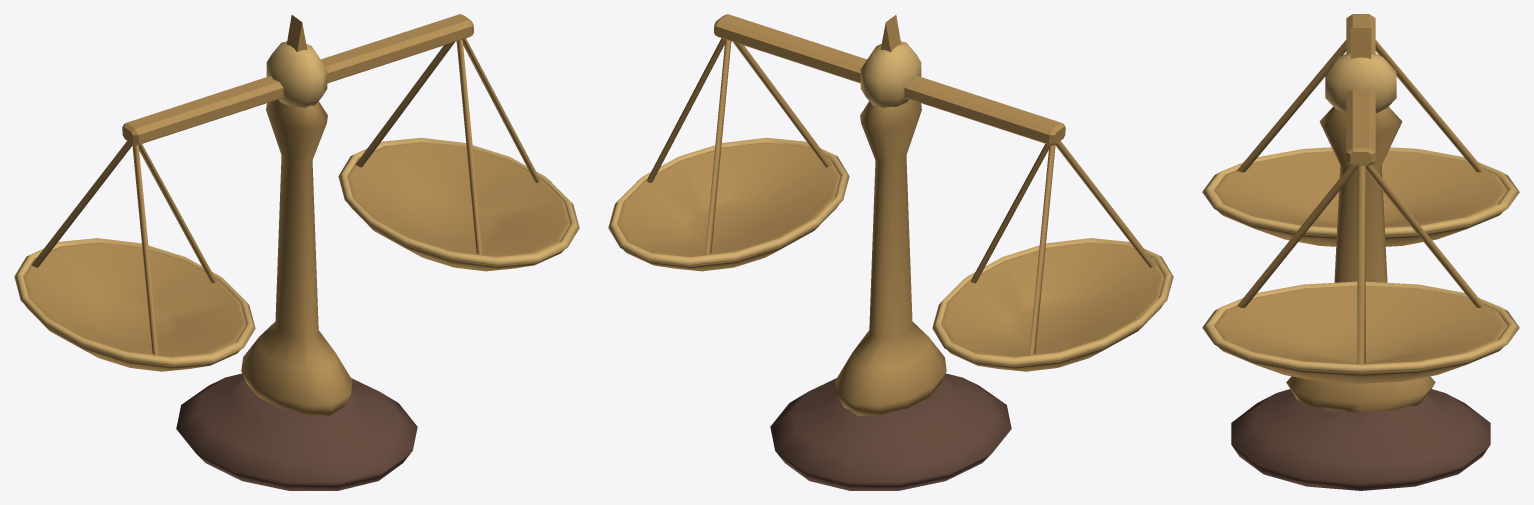
The model's file is brass_scale.glb.
The picture shows the model from 3 angles, left to right: view 1: azimuth 30°, elevation 25°; view 2: azimuth 150°, elevation 25°; view 3: azimuth 270°, elevation 25°; orthographic projection.
Visible parts, largest first — view 1: brass_scale; view 2: brass_scale; view 3: brass_scale.
Boxes of the visible parts, x1=… form: brass_scale: x1=14, y1=14, x2=579, y2=490; brass_scale: x1=608, y1=14, x2=1173, y2=490; brass_scale: x1=1202, y1=14, x2=1519, y2=490.
Size of the model in its own units: 0.4 by 0.32 by 0.22.
